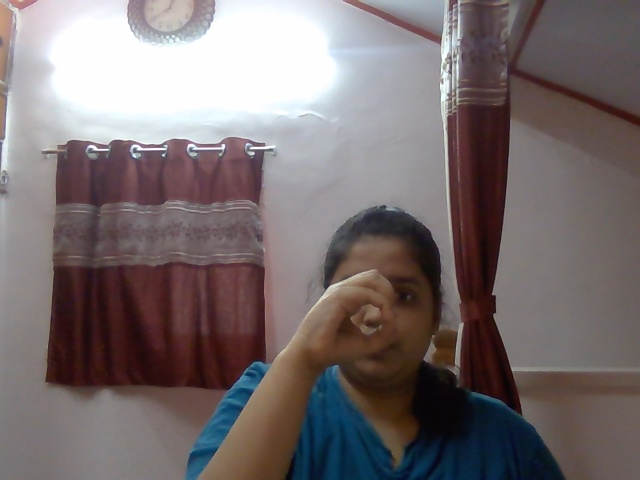o: (285, 263, 430, 375)
